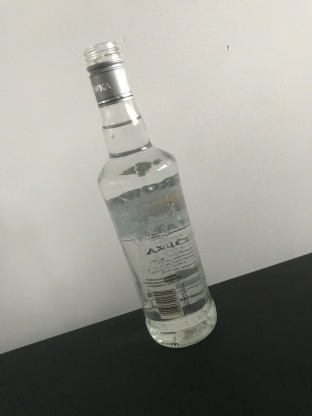nakretka: (81, 37, 134, 110)
